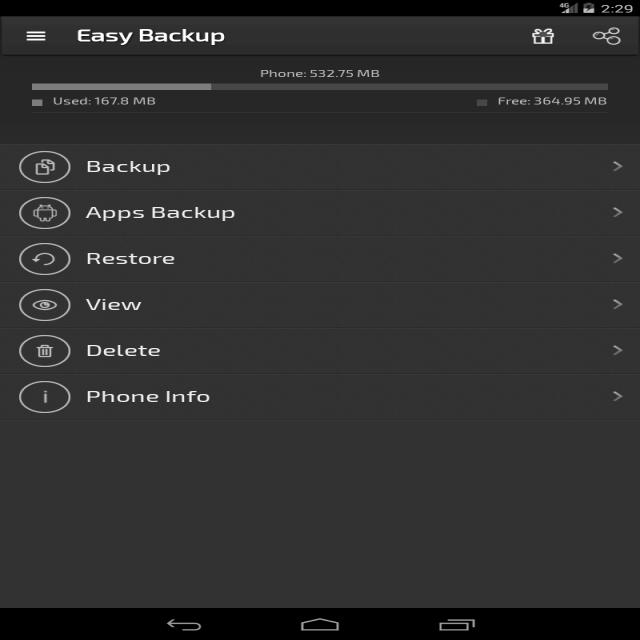ImageButton: (586, 21, 628, 48), (19, 27, 56, 47)
ImageView: (525, 26, 564, 46)
TextView: (73, 24, 241, 48), (84, 201, 246, 225), (82, 384, 226, 408), (82, 340, 188, 366), (84, 156, 178, 178), (493, 95, 610, 112), (254, 64, 394, 78)
